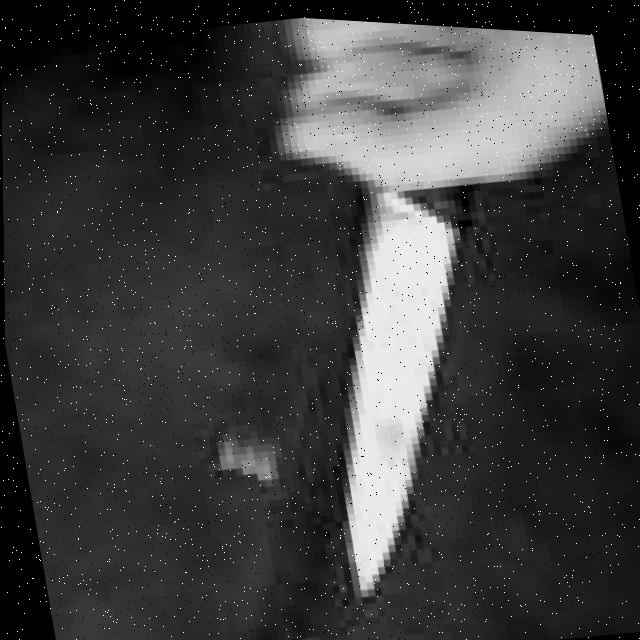knife: (279, 165, 532, 610)
